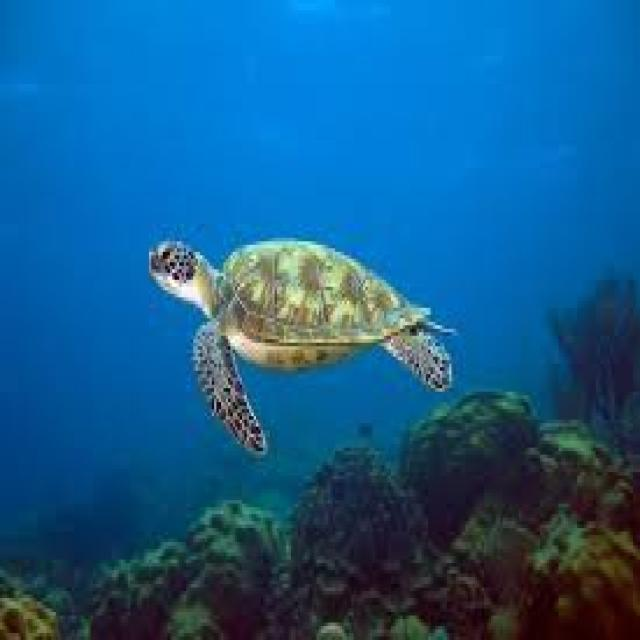turtle: (130, 188, 470, 484)
